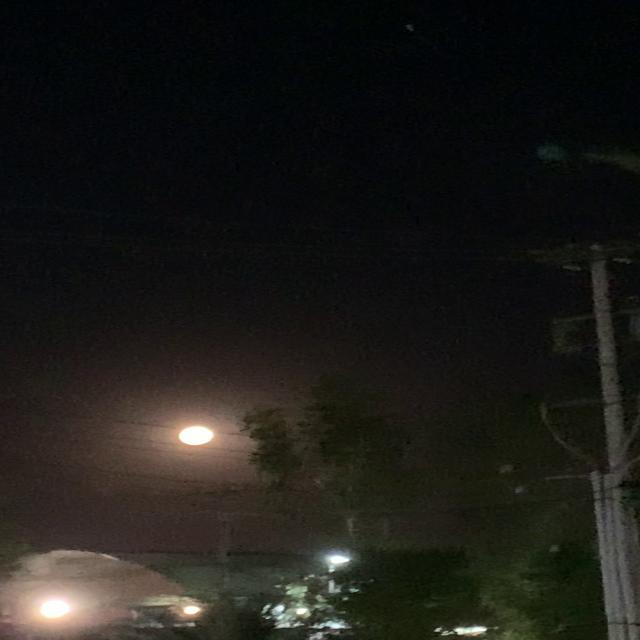moon: (174, 426, 216, 450)
